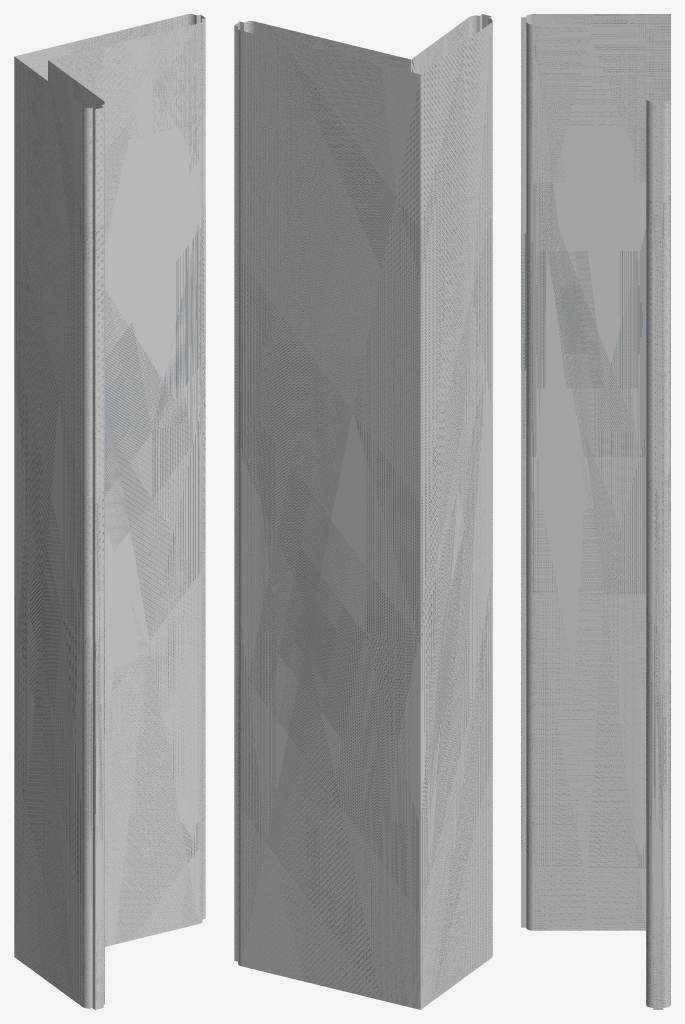
Rendered from PW_CornerFixElem_ds_T1_060x085x010x400.dae.
3 renders of one model, left to right at view 1: azimuth 30°, elevation 25°; view 2: azimuth 150°, elevation 25°; view 3: azimuth 270°, elevation 25°, orthographic. The views are drawn at different scales.
Parts seen in each view (by area): view 1: group_0; view 2: group_0; view 3: group_0.
Boxes of the visible parts, x1,y1,x2,y2 form: group_0: [14, 14, 205, 1009]; group_0: [234, 14, 492, 1009]; group_0: [521, 14, 670, 1009].
Bounding box in the file's own units: 33.46 × 23.62 × 157.
